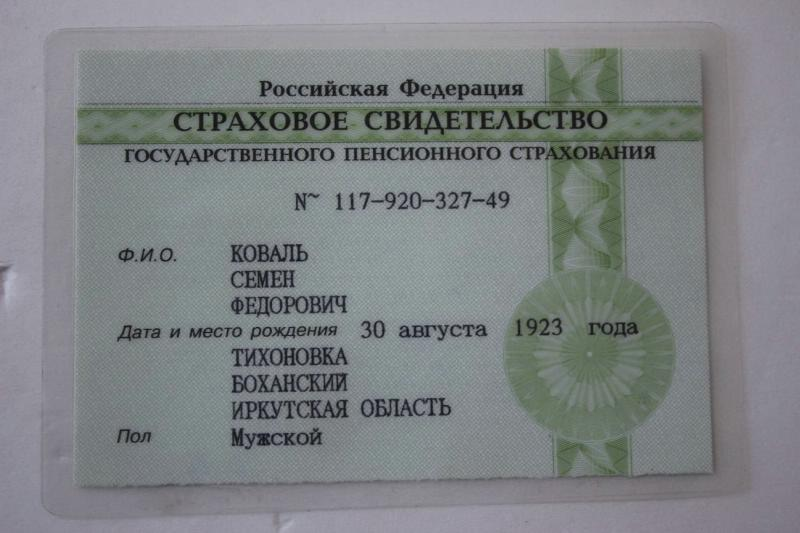text: (228, 342, 455, 421), (359, 315, 645, 345), (328, 185, 518, 214), (225, 292, 349, 317), (226, 425, 327, 450), (228, 240, 311, 265), (224, 266, 302, 292)
